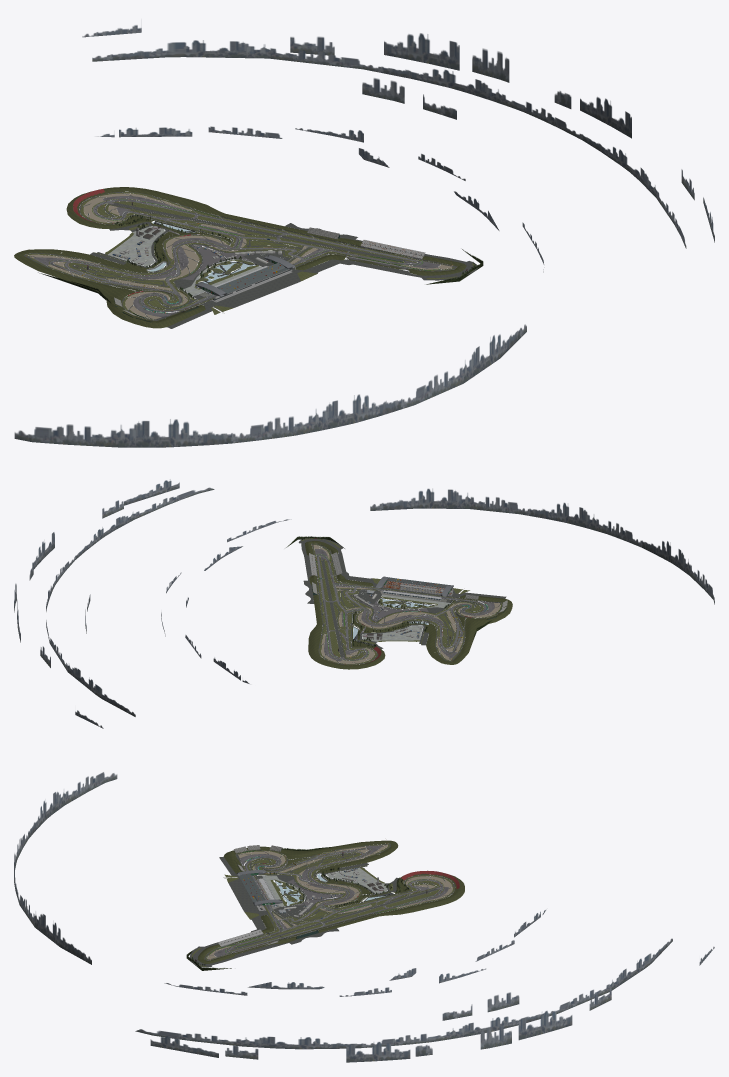
Rendered from track.glb.
3 renders of one model, top to bottom at view 1: azimuth 30°, elevation 25°; view 2: azimuth 150°, elevation 25°; view 3: azimuth 270°, elevation 25°, orthographic. The views are drawn at different scales.
Bounding box in the file's own units: 3387 × 211 × 3508.
Materials: 85 (84 with a texture image).
